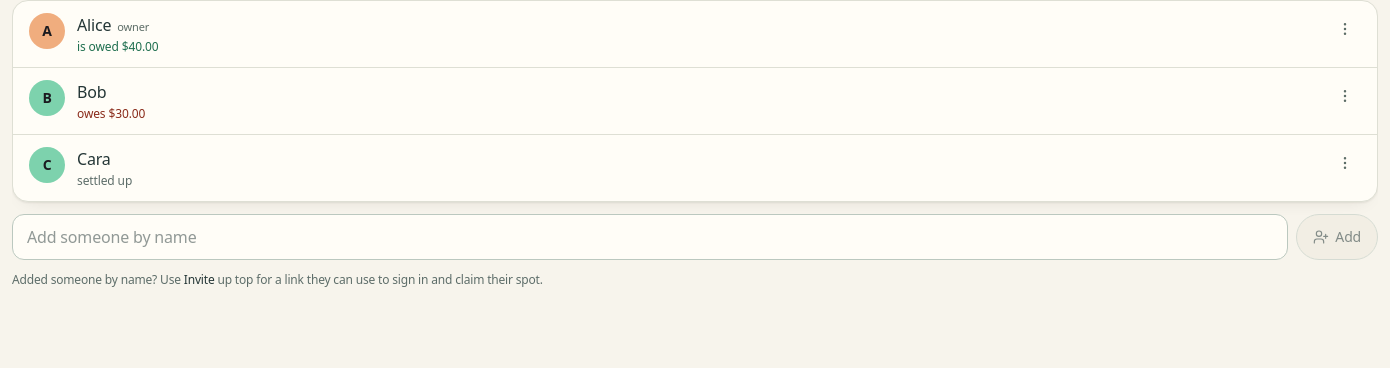
it: renaming › is offered for placeholders only
Click the button named "Options for Bob". click: (1345, 96)
box: [1329, 80, 1361, 112]
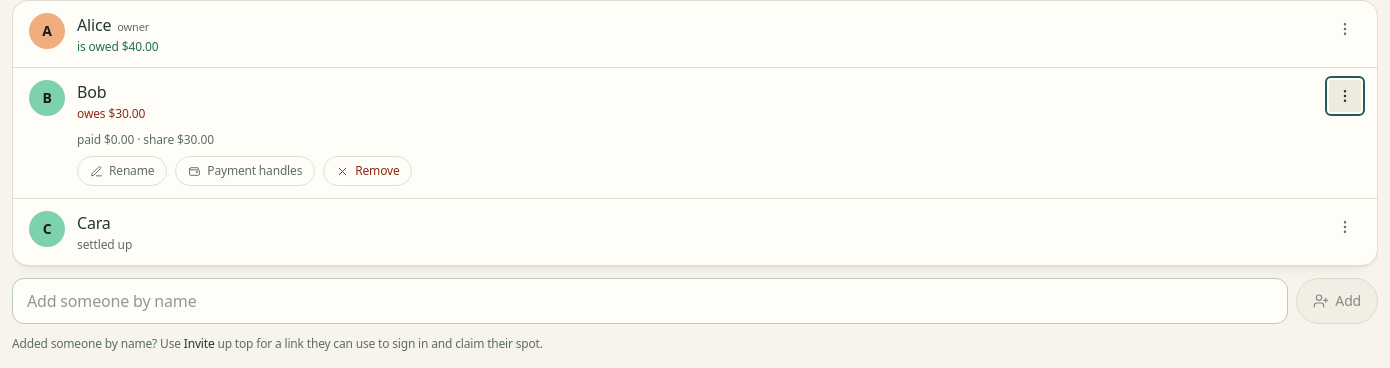
Expected: the button "Rename" is shown, [77, 156, 167, 186]
Click the button named "Options for Cara". click: (1345, 227)
box: [1329, 211, 1361, 243]
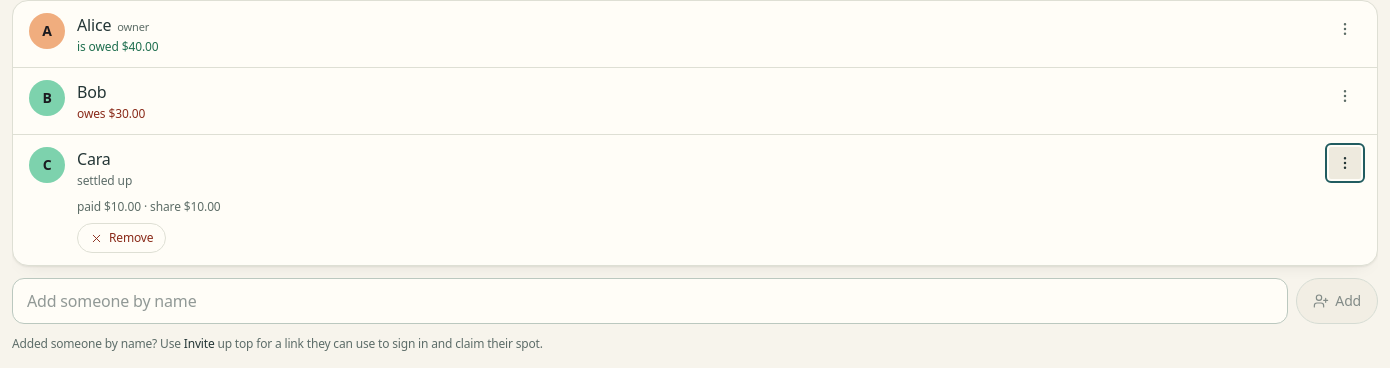
Expected: the button "Rename" is gone
